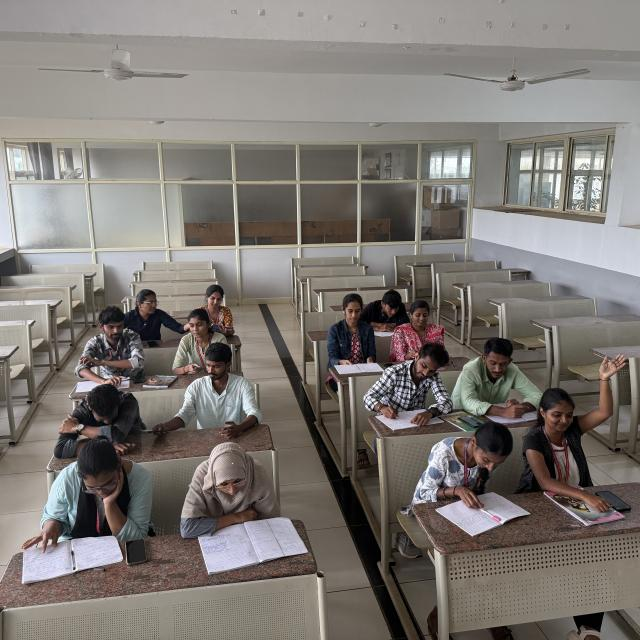Hand Rising: (529, 354, 628, 490)
Reading: (179, 440, 295, 565), (17, 437, 124, 550), (455, 338, 546, 418), (326, 292, 381, 374), (395, 300, 451, 370), (192, 284, 239, 338), (362, 288, 411, 338)
Sleeping: (55, 386, 142, 450)
Using Phone: (141, 345, 260, 443), (172, 313, 227, 373)
Writing: (422, 426, 524, 526), (366, 342, 452, 428), (76, 304, 137, 392)
